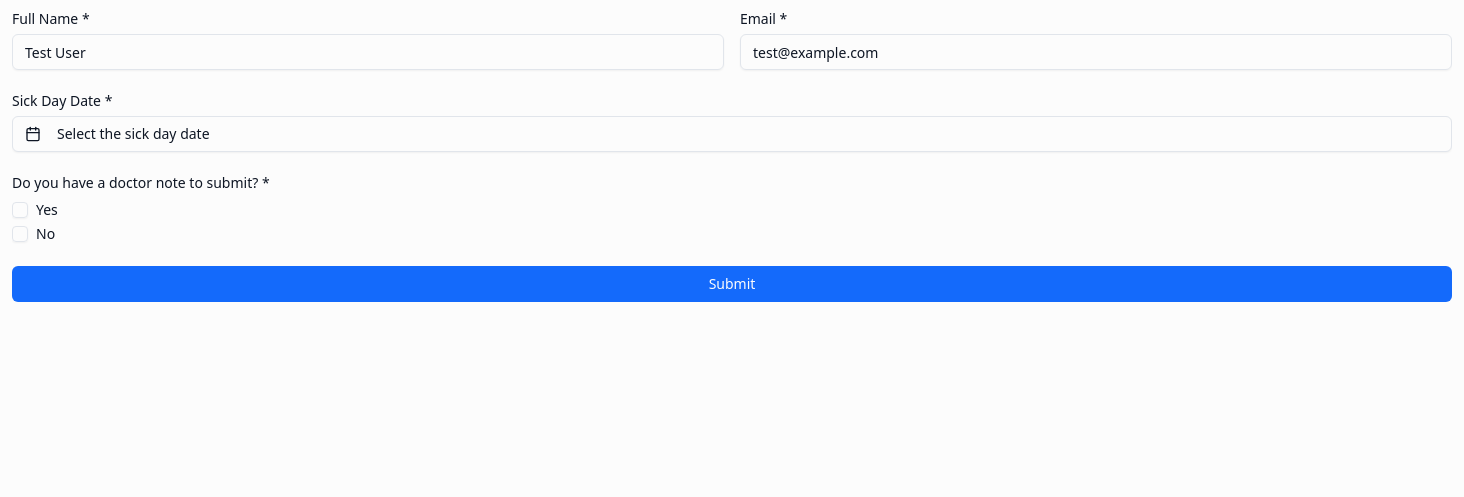
it: SickDayForm › hides file upload zone after selecting No for doctor note
# Click Yes first
Click the checkbox with id "hasDoctorNoteYes" at point(20, 210), box [12,202,28,218]
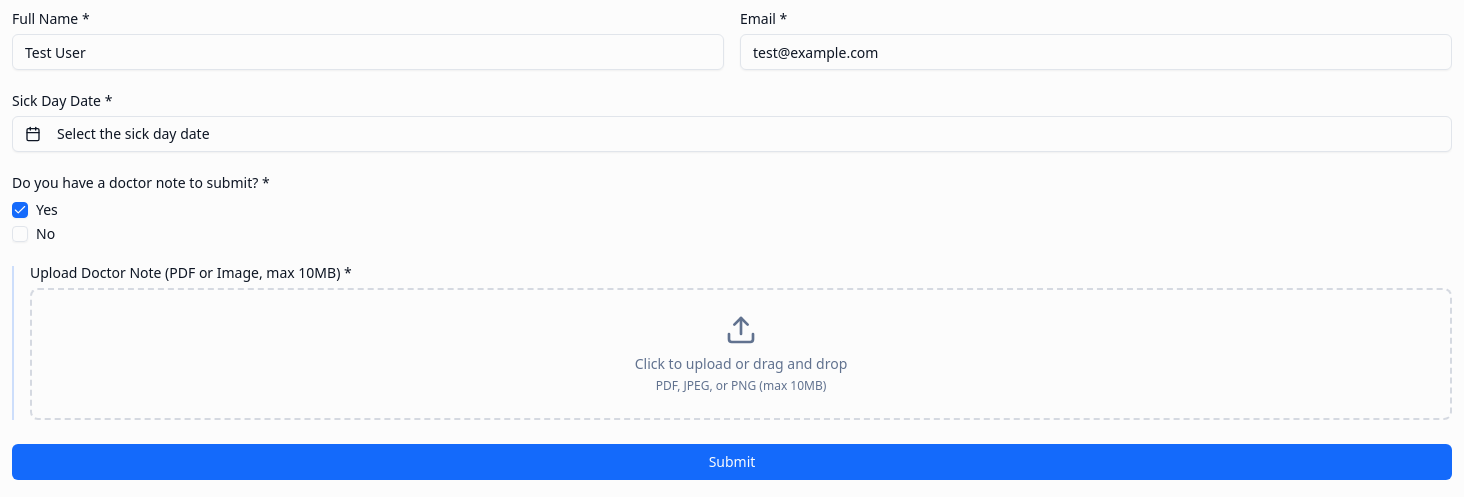
Result: the text "Upload Doctor Note" is shown at [30,263,352,282]
# Now click No
Click the checkbox with id "hasDoctorNoteNo" at point(20, 234), box [12,226,28,242]
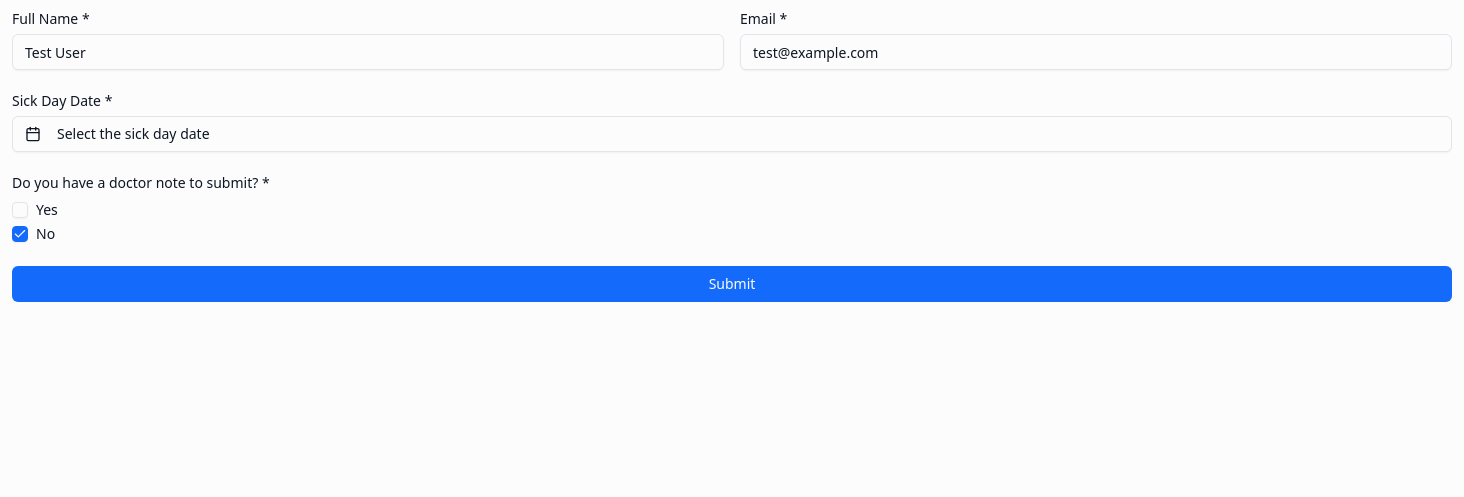
Result: the text "Upload Doctor Note" is gone
